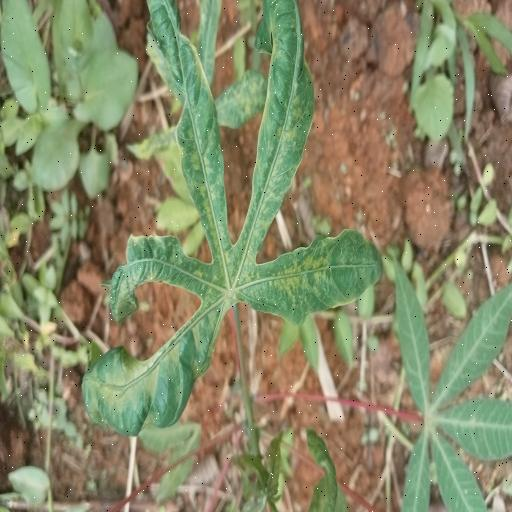Cassava_Healthy: (390, 249, 511, 512)
Cassava_Mosaic: (83, 0, 384, 432)
